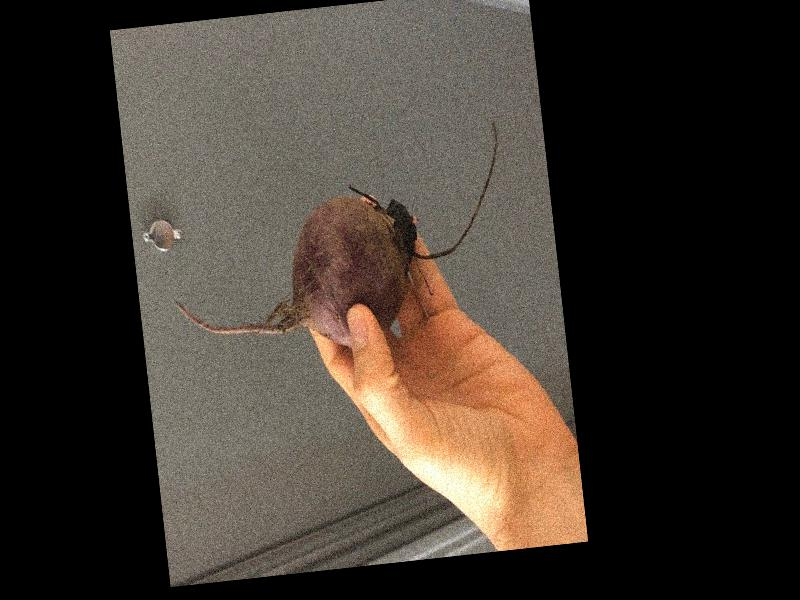Beet: (158, 119, 518, 365)
